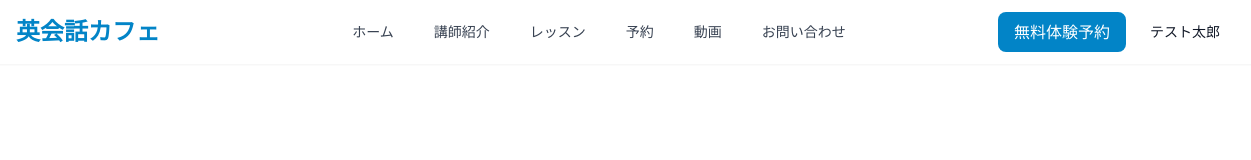
Header dropdown › closes when the マイページ link is clicked
Click the button "テスト太郎" at {"x": 1185, "y": 32}, box [1138,14,1232,50]
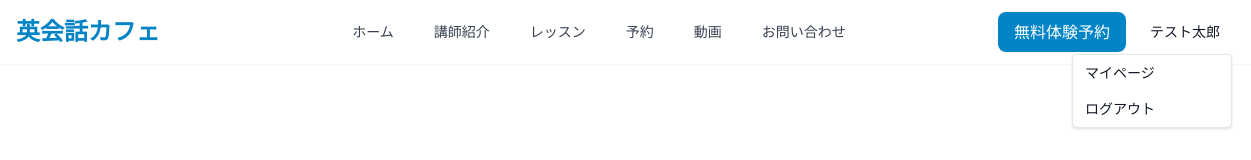
Click the link "マイページ" at {"x": 1120, "y": 72}, box [1085,64,1155,81]
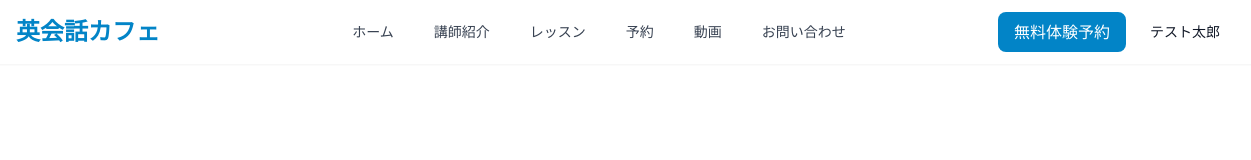
Check: the link "マイページ" is gone
